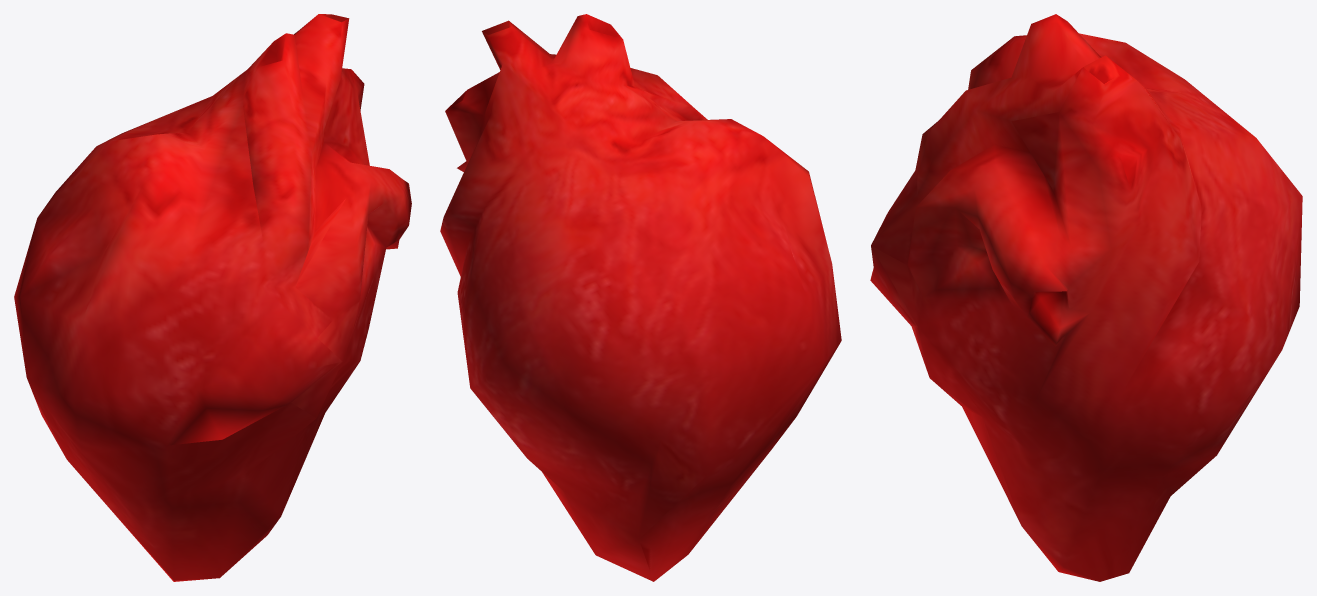
The model's file is heart.obj.
3 renders of one model, left to right at view 1: azimuth 30°, elevation 25°; view 2: azimuth 150°, elevation 25°; view 3: azimuth 270°, elevation 25°, orthographic. The views are drawn at different scales.
Visible parts, largest first — view 1: heart; view 2: heart; view 3: heart.
Boxes of the visible parts, x1,y1,x2,y2 form: heart: [14, 14, 411, 581]; heart: [440, 14, 841, 581]; heart: [870, 14, 1302, 581].
Size of the model in its own units: 0.1567 by 0.2149 by 0.1385.
